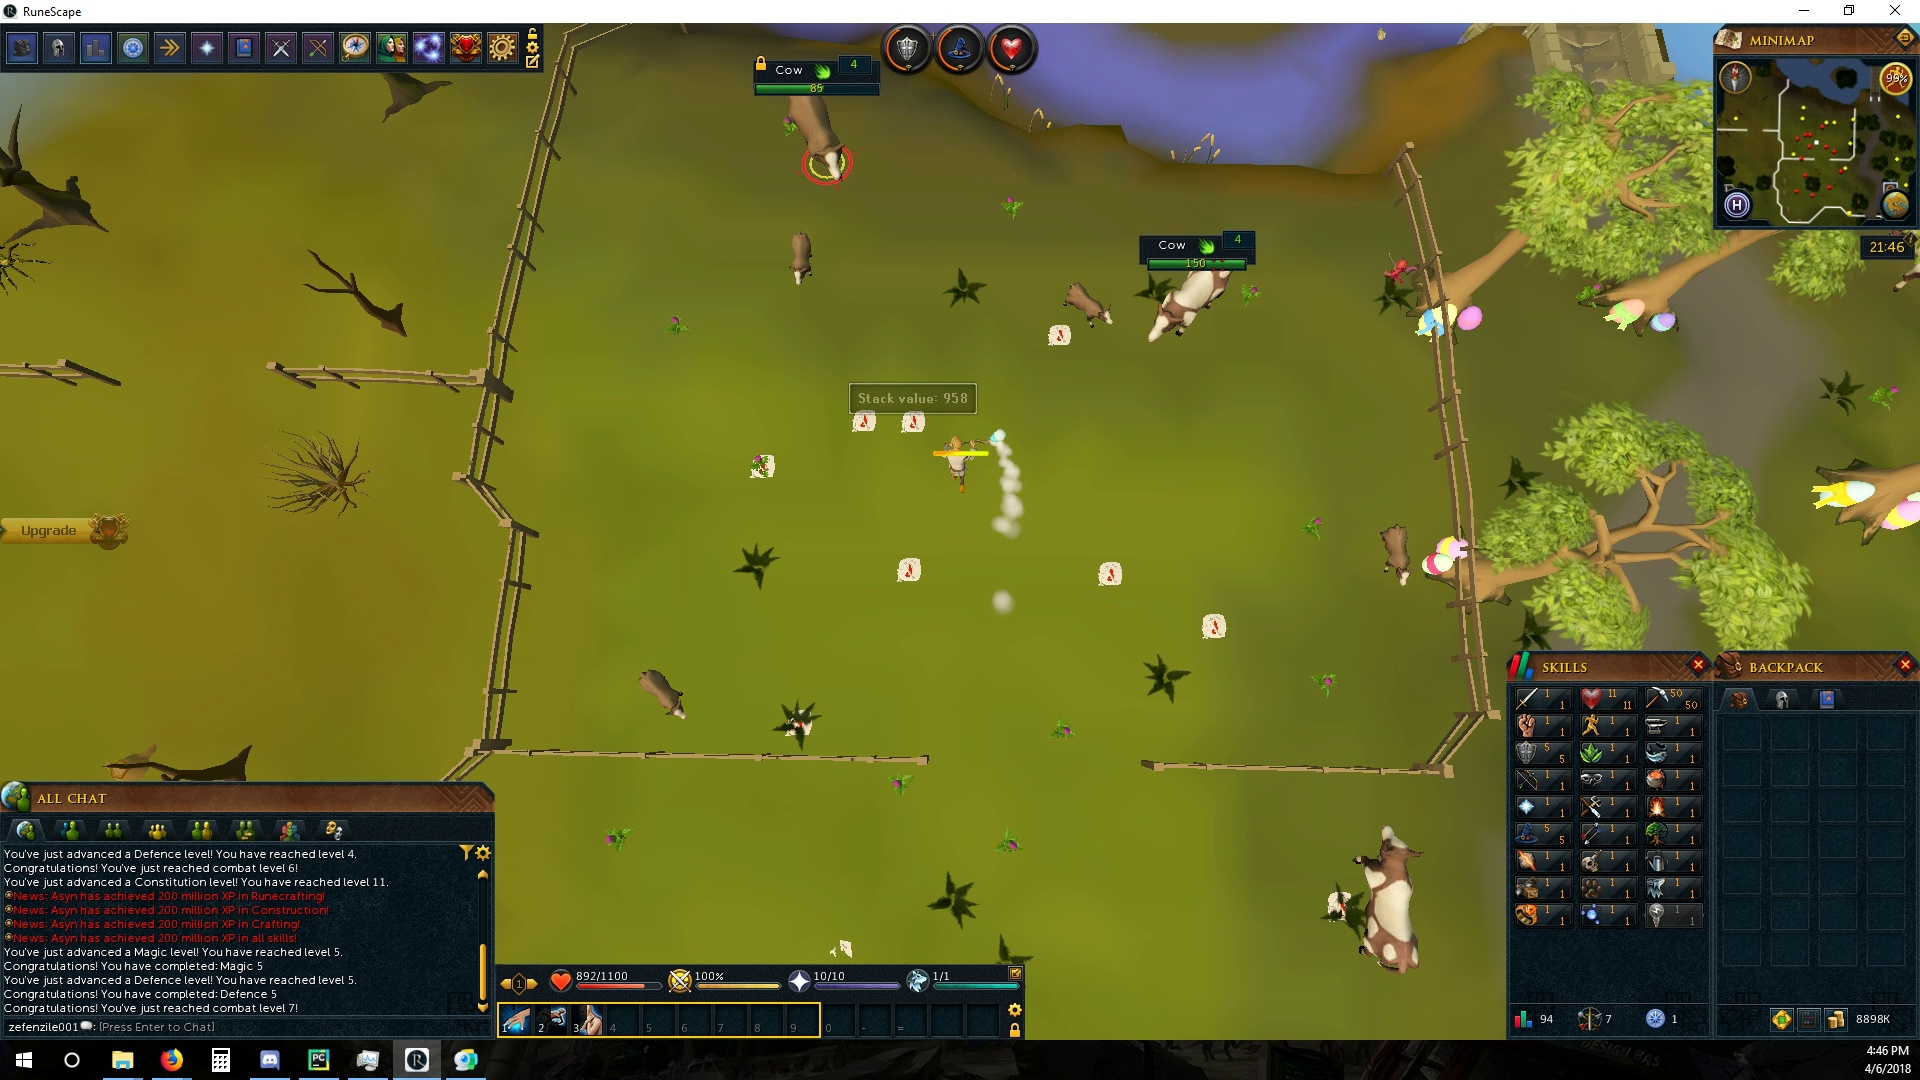calf: (637, 665, 688, 724), (1056, 281, 1116, 328), (1375, 522, 1412, 591), (785, 231, 812, 282)
cow: (1352, 822, 1425, 976), (1142, 270, 1242, 345), (785, 96, 852, 187)
cow_drop: (746, 448, 781, 485), (1092, 558, 1131, 589), (1195, 612, 1232, 644), (1324, 885, 1356, 919), (895, 553, 927, 584), (1043, 320, 1077, 349), (848, 413, 877, 442), (895, 415, 931, 433)
